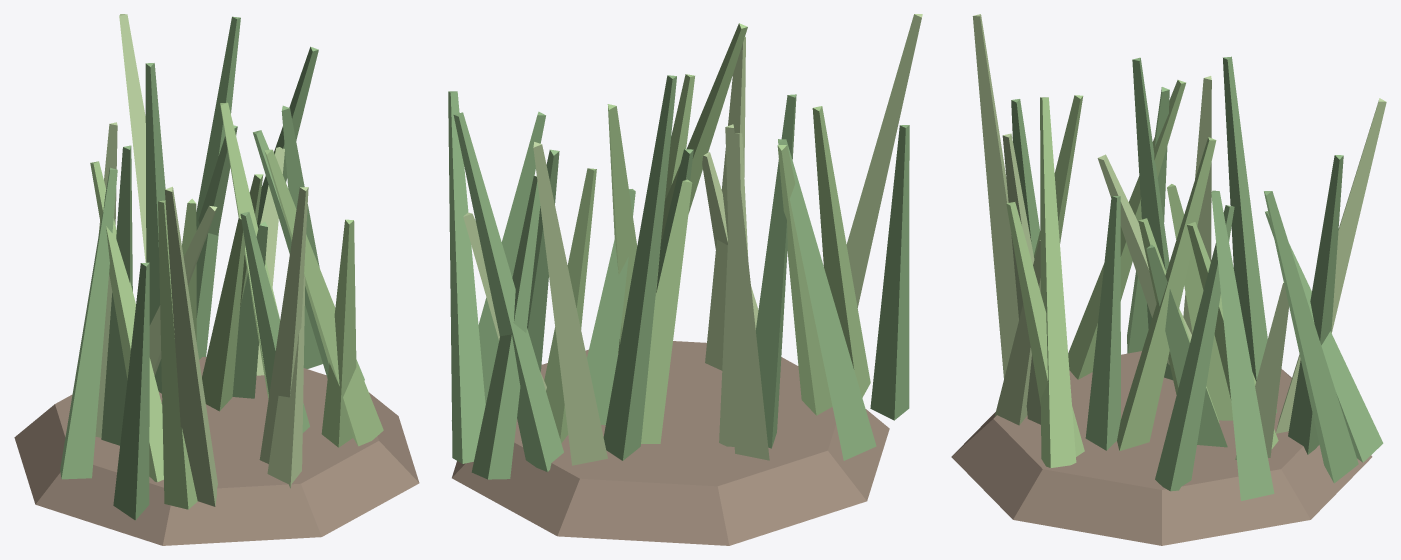
The model's file is Veg_Grass_A.fbx.
3 views of the same model, side by side, from view 1: azimuth 30°, elevation 25°; view 2: azimuth 150°, elevation 25°; view 3: azimuth 270°, elevation 25° (orthographic). The views are drawn at different scales.
Parts seen in each view (by area): view 1: Veg_Grass_A_Veg, Veg_Grass_A; view 2: Veg_Grass_A_Veg, Veg_Grass_A; view 3: Veg_Grass_A_Veg, Veg_Grass_A.
Boxes of the visible parts, left/top/right/bottom form: Veg_Grass_A_Veg: left=60, top=14, right=383, bottom=520; Veg_Grass_A: left=14, top=357, right=419, bottom=545; Veg_Grass_A_Veg: left=448, top=14, right=922, bottom=479; Veg_Grass_A: left=452, top=341, right=889, bottom=545; Veg_Grass_A_Veg: left=972, top=14, right=1386, bottom=500; Veg_Grass_A: left=951, top=351, right=1372, bottom=545.
Size of the model in its own units: 0.4 by 0.4008 by 0.4134.
